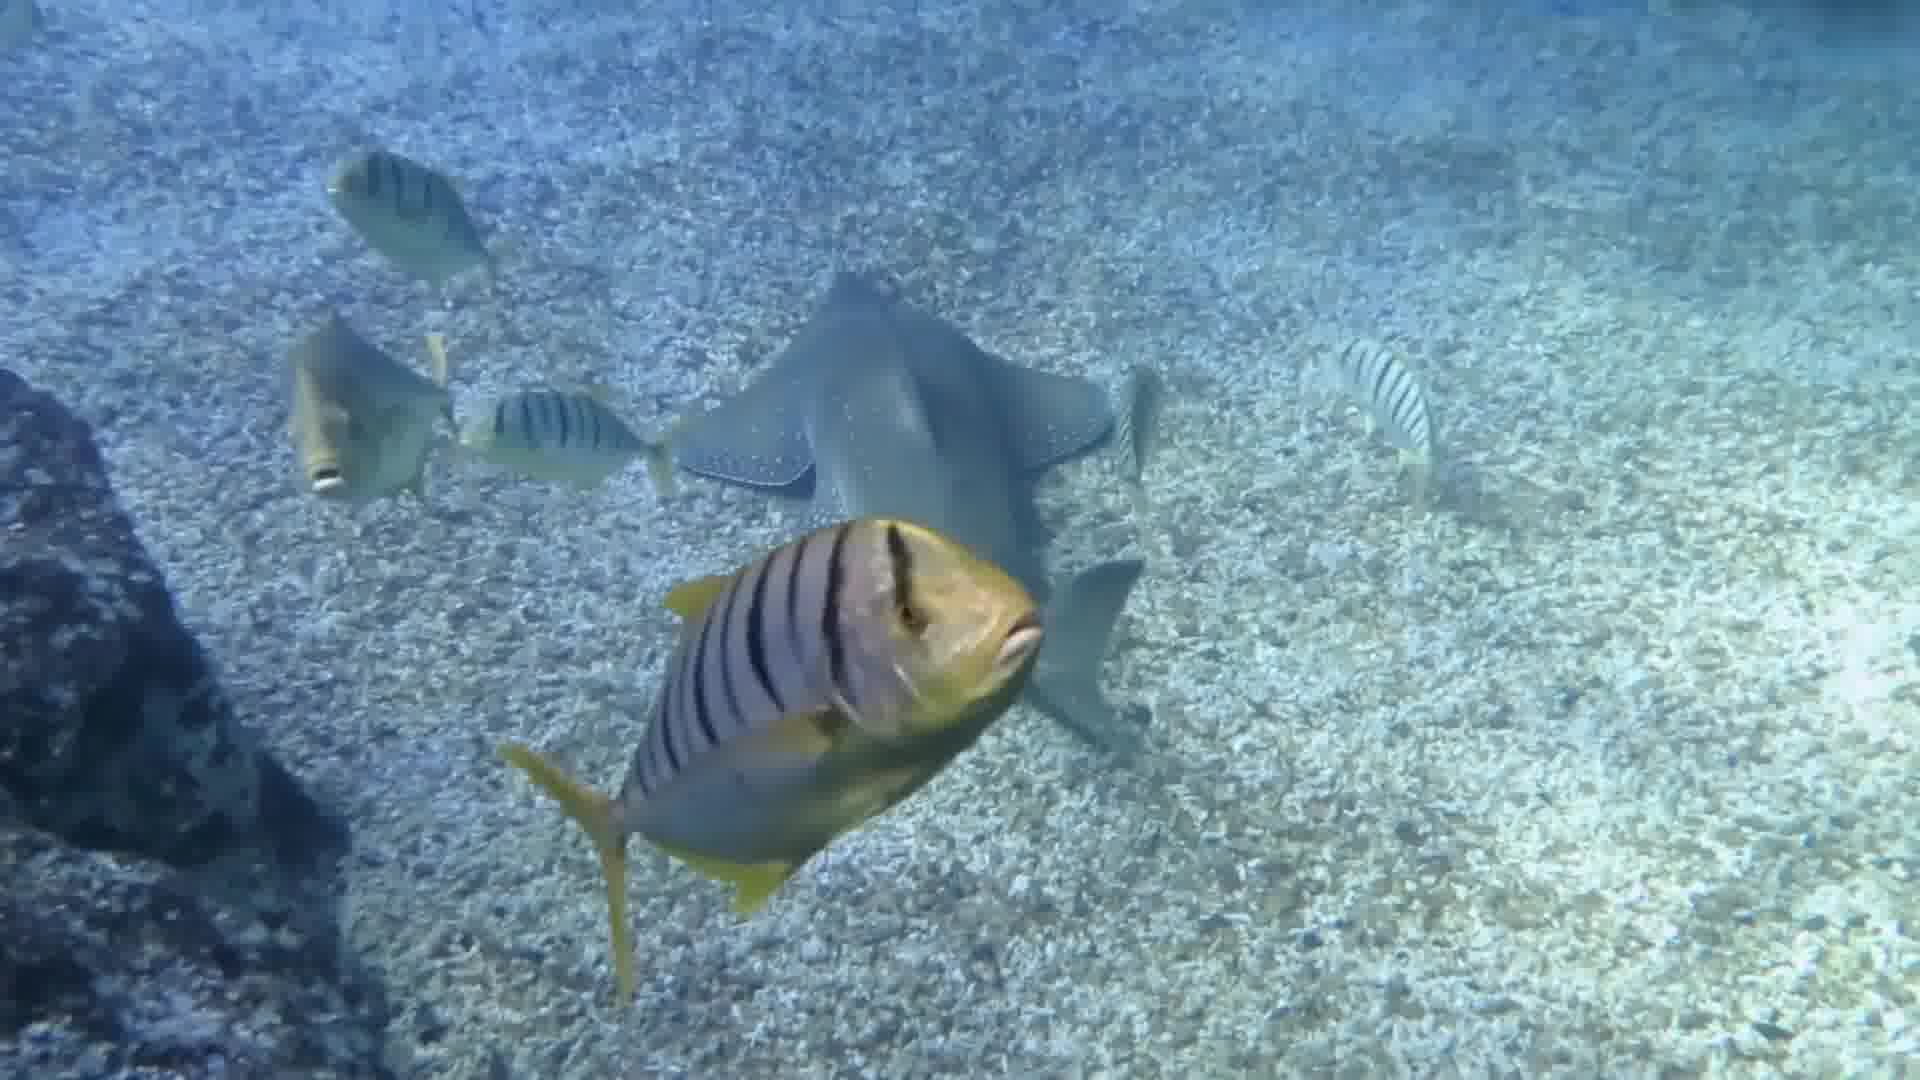Rhychobatus djiddensis: (661, 262, 1143, 514)
